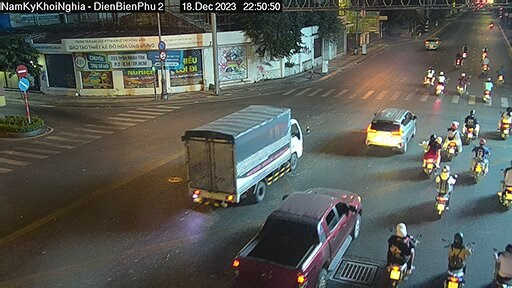car: (247, 185, 361, 281), (365, 100, 417, 157)
motorbike: (385, 222, 427, 287), (441, 240, 476, 288), (442, 119, 464, 162), (435, 169, 456, 214), (422, 135, 442, 172), (471, 142, 489, 182)
truck: (181, 102, 305, 204)
